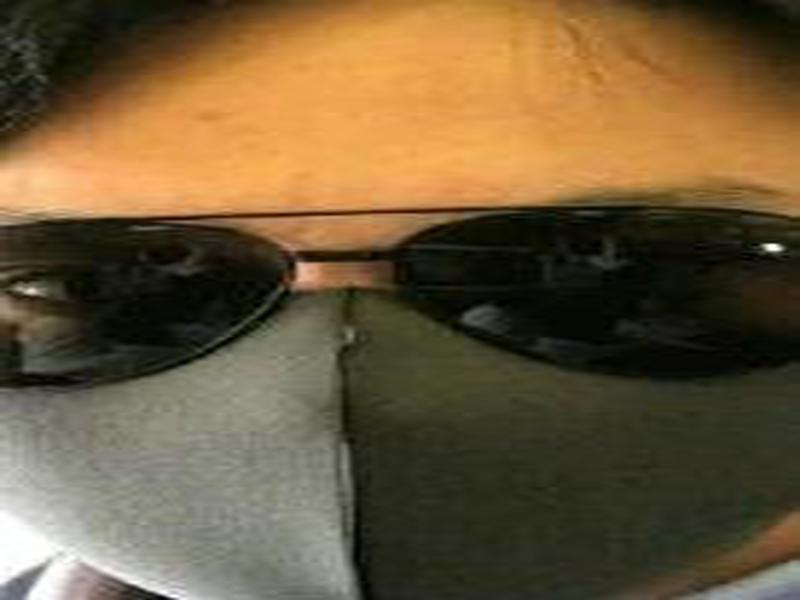with_mask: (1, 2, 800, 600)
